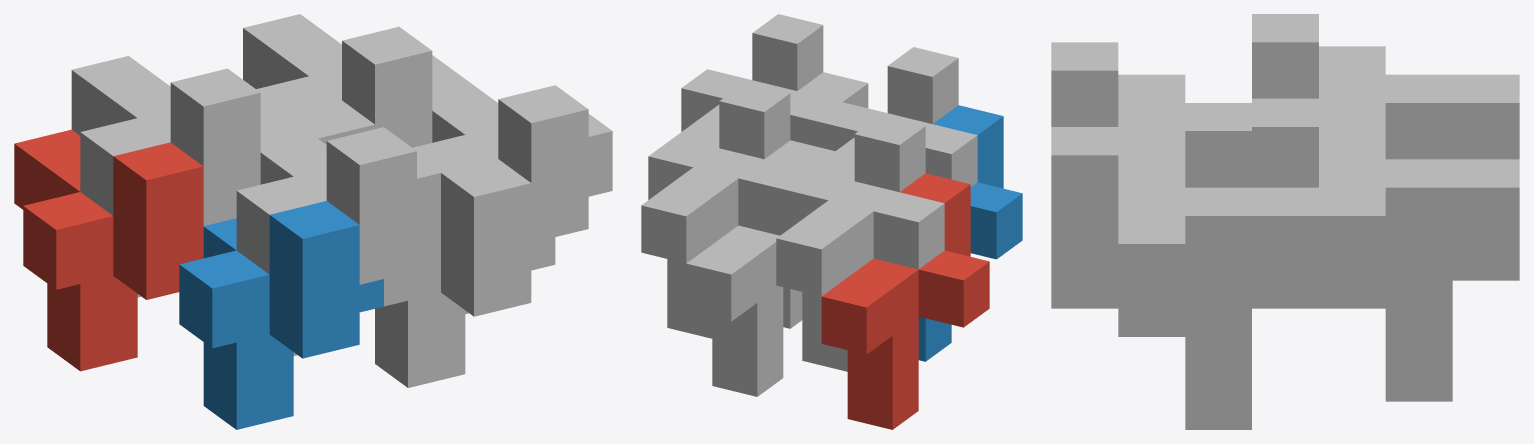
Rendered from tiling.obj.
The picture shows the model from 3 angles, left to right: view 1: azimuth 30°, elevation 25°; view 2: azimuth 150°, elevation 25°; view 3: azimuth 270°, elevation 25°; orthographic projection. The views are drawn at different scales.
Visible parts, largest first — view 1: copy_1_domain_1, copy_1_domain_2, copy_1_domain_6, copy_1_domain_3, copy_1_domain_4, copy_1_domain_8, copy_1_domain_7, copy_1_domain_5; view 2: copy_1_domain_3, copy_1_domain_1, copy_1_domain_7, copy_1_domain_5, copy_1_domain_4, copy_1_domain_8, copy_1_domain_2, copy_1_domain_6; view 3: copy_1_domain_8, copy_1_domain_7, copy_1_domain_3, copy_1_domain_4, copy_1_domain_6, copy_1_domain_5.
Boxes of the visible parts, x1,y1,x2,y2 form: copy_1_domain_1: (14,129,203,371); copy_1_domain_2: (179,201,383,429); copy_1_domain_6: (375,159,555,387); copy_1_domain_3: (71,56,284,297); copy_1_domain_4: (236,114,440,355); copy_1_domain_8: (412,72,612,314); copy_1_domain_7: (243,14,455,147); copy_1_domain_5: (285,100,374,144); copy_1_domain_3: (776,115,944,371); copy_1_domain_1: (821,173,989,429); copy_1_domain_7: (641,82,808,338); copy_1_domain_5: (686,140,834,396); copy_1_domain_4: (810,47,977,186); copy_1_domain_8: (675,14,841,147); copy_1_domain_2: (918,105,1022,361); copy_1_domain_6: (783,72,868,328); copy_1_domain_8: (1051,127,1318,397); copy_1_domain_7: (1252,98,1519,369); copy_1_domain_3: (1252,14,1519,159); copy_1_domain_4: (1051,42,1251,187); copy_1_domain_6: (1051,276,1318,429); copy_1_domain_5: (1319,248,1519,401).
Size of the model in its own units: 8 by 5 by 7.
